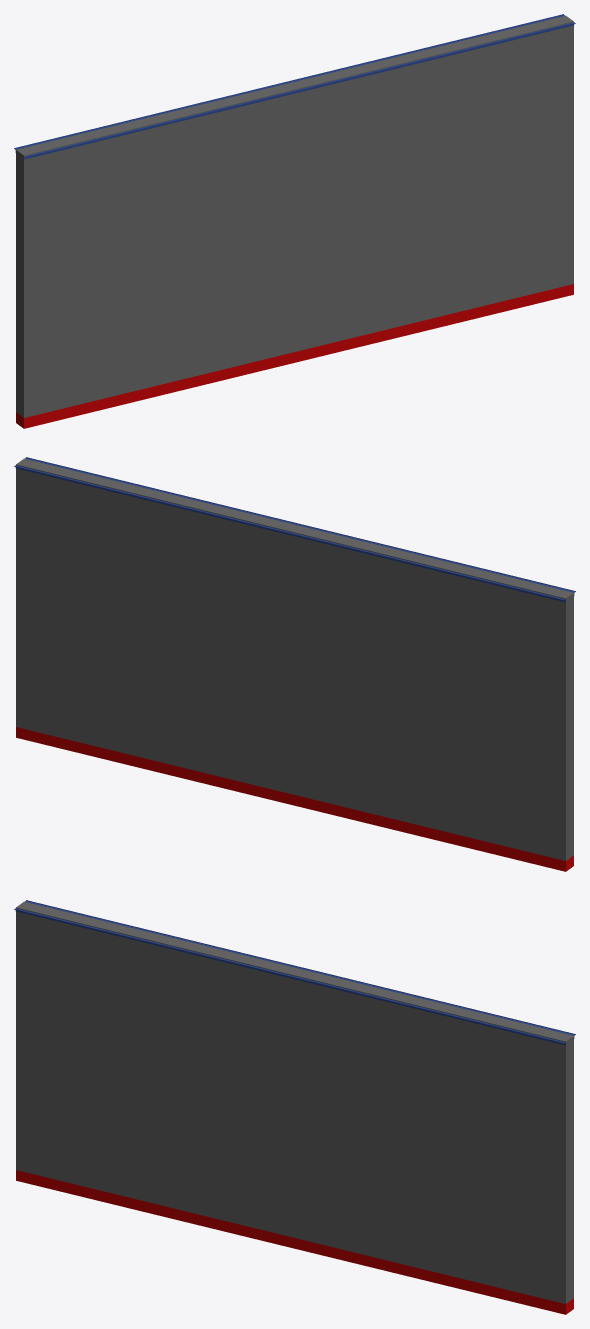
The model's file is Classroom_Wall_01_Snaps014.FBX.
3 renders of one model, top to bottom at view 1: azimuth 30°, elevation 25°; view 2: azimuth 150°, elevation 25°; view 3: azimuth 330°, elevation 25°, orthographic.
Parts seen in each view (by area): view 1: Classroom_Wall_01; view 2: Classroom_Wall_01; view 3: Classroom_Wall_01.
Boxes of the visible parts, x1,y1,x2,y2 form: Classroom_Wall_01: (14, 14, 575, 428); Classroom_Wall_01: (14, 457, 575, 871); Classroom_Wall_01: (14, 900, 575, 1314).
Bounding box in the file's own units: 800 × 380 × 30.65.
